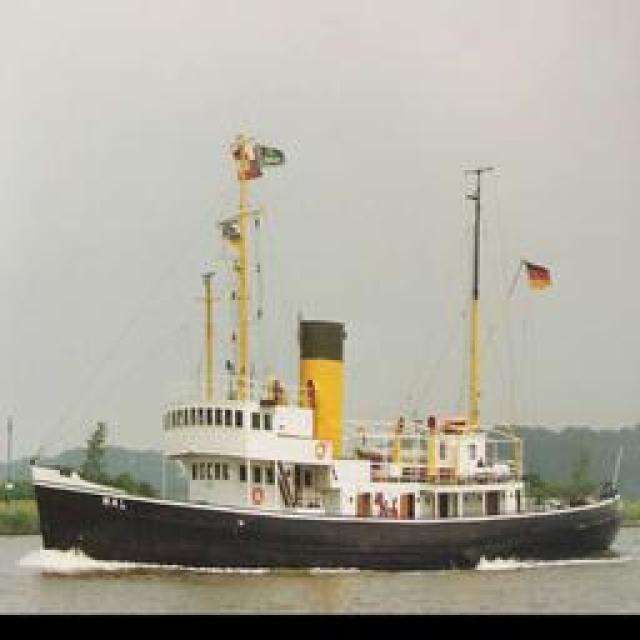ship2: (28, 135, 621, 571)
